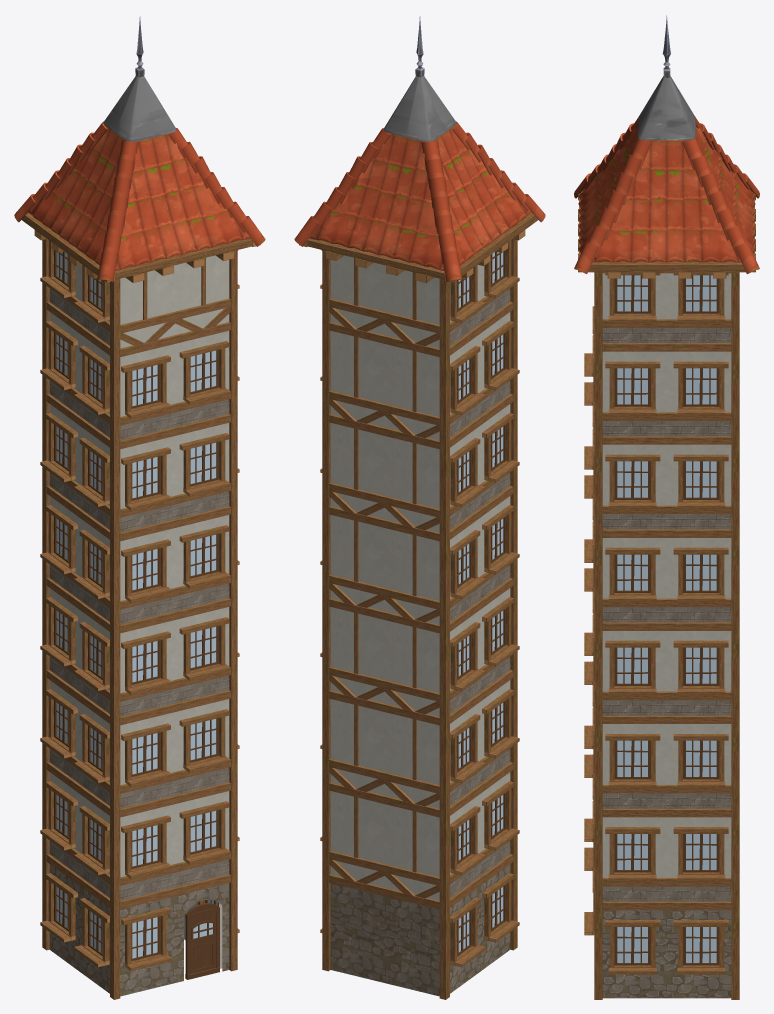
The model's file is news_tower.glb.
3 views of the same model, side by side, from view 1: azimuth 30°, elevation 25°; view 2: azimuth 150°, elevation 25°; view 3: azimuth 270°, elevation 25° (orthographic).
Parts seen in each view (by area): view 1: Window_Wide_Flat1, Wall_UnevenBrick_Window_Wide_Flat, Roof_Tower_RoundTiles, Wall_Plaster_Window_Wide_Flat, Wall_UnevenBrick_Door_Round; view 2: Wall_UnevenBrick_Window_Wide_Flat, Window_Wide_Flat1, Roof_Tower_RoundTiles, Wall_UnevenBrick_Door_Round, Wall_Plaster_Window_Wide_Flat; view 3: Window_Wide_Flat1, Wall_UnevenBrick_Window_Wide_Flat, Roof_Tower_RoundTiles, Wall_Plaster_Window_Wide_Flat.
Boxes of the visible parts, bbox=[...] form: Window_Wide_Flat1: bbox=[40, 239, 239, 999]; Wall_UnevenBrick_Window_Wide_Flat: bbox=[21, 212, 260, 996]; Roof_Tower_RoundTiles: bbox=[14, 16, 265, 281]; Wall_Plaster_Window_Wide_Flat: bbox=[49, 288, 229, 900]; Wall_UnevenBrick_Door_Round: bbox=[174, 883, 229, 983]; Wall_UnevenBrick_Window_Wide_Flat: bbox=[299, 212, 538, 993]; Window_Wide_Flat1: bbox=[320, 239, 519, 999]; Roof_Tower_RoundTiles: bbox=[294, 16, 545, 281]; Wall_UnevenBrick_Door_Round: bbox=[330, 883, 439, 996]; Wall_Plaster_Window_Wide_Flat: bbox=[450, 288, 510, 897]; Window_Wide_Flat1: bbox=[584, 272, 739, 999]; Wall_UnevenBrick_Window_Wide_Flat: bbox=[578, 191, 755, 998]; Roof_Tower_RoundTiles: bbox=[574, 15, 759, 273]; Wall_Plaster_Window_Wide_Flat: bbox=[602, 328, 731, 901].
Bounding box in the file's own units: 5.65 × 30.79 × 5.43.
8 materials, 7 textured.
